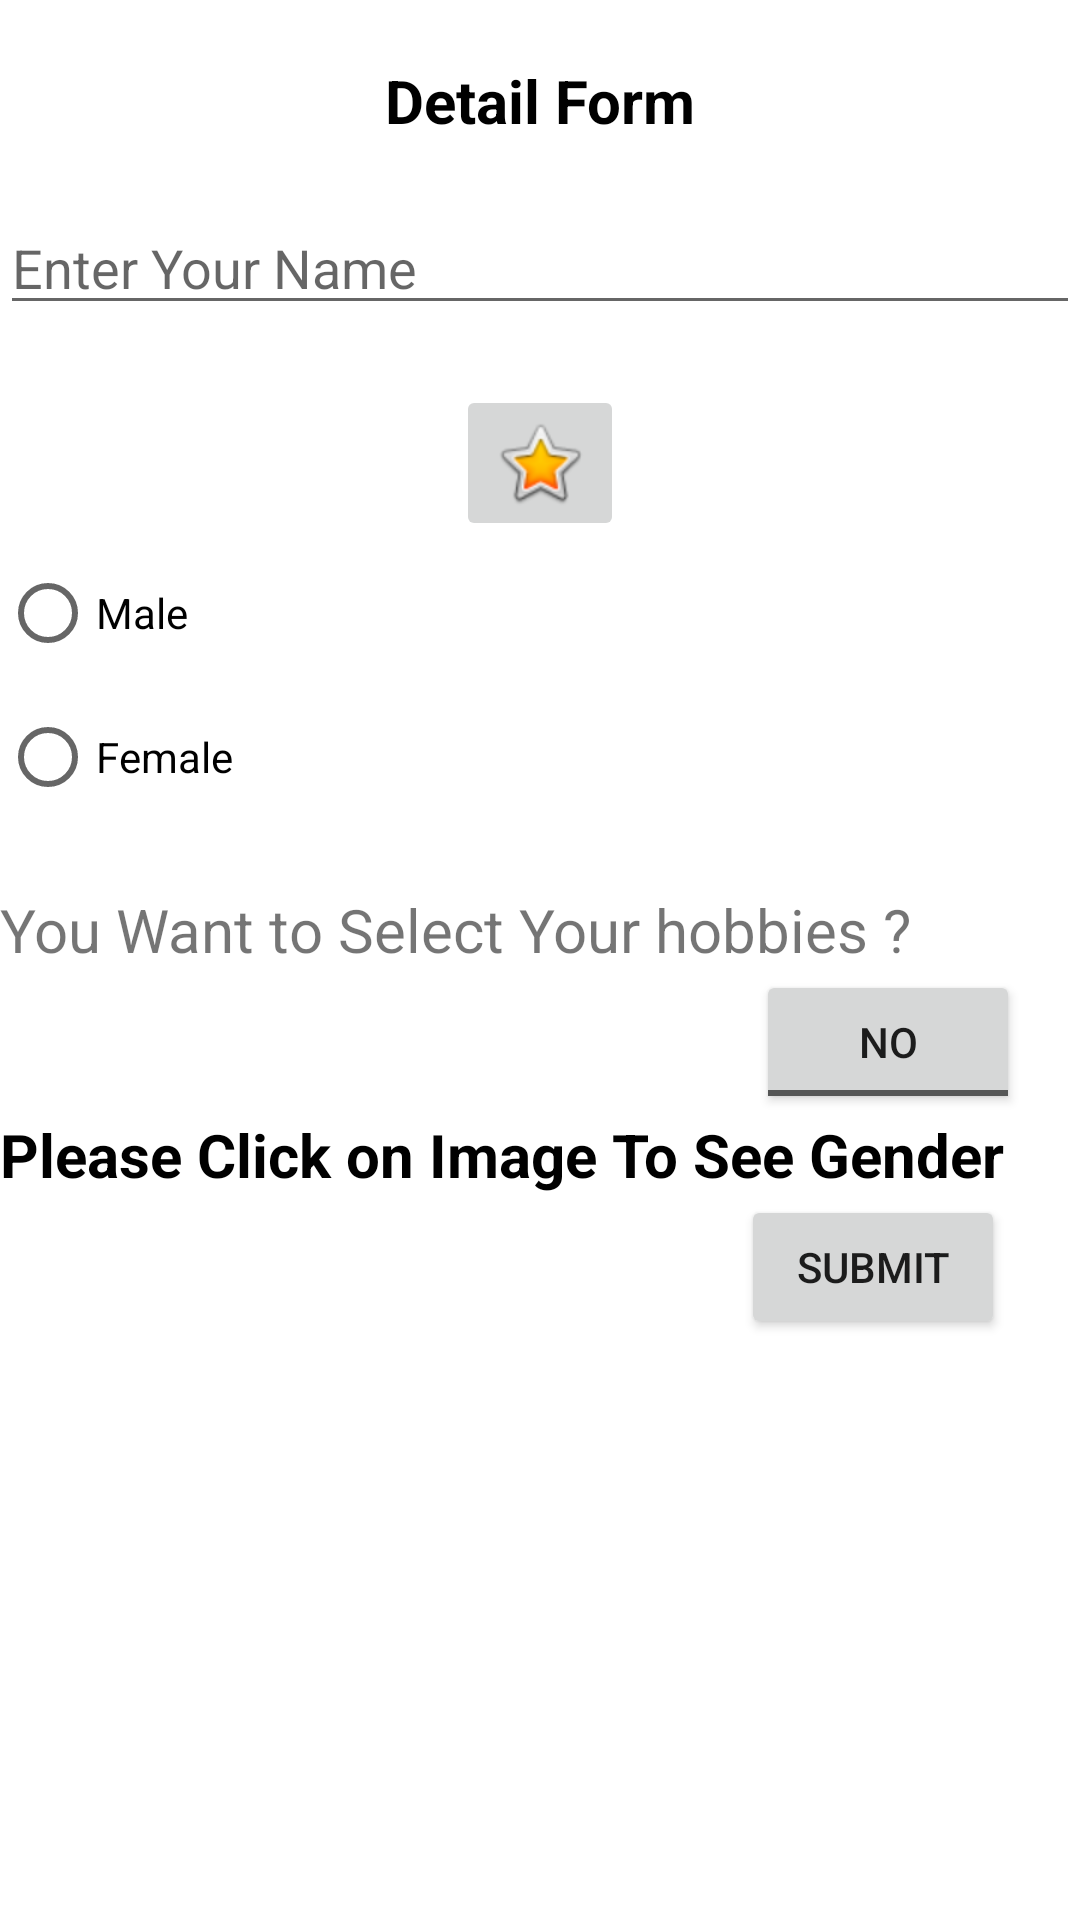

Locate icon controls on the screen. Image size 1080px×1920px, boxes as (x1, y1, x2, y2).
star on: (468, 403, 612, 523)
